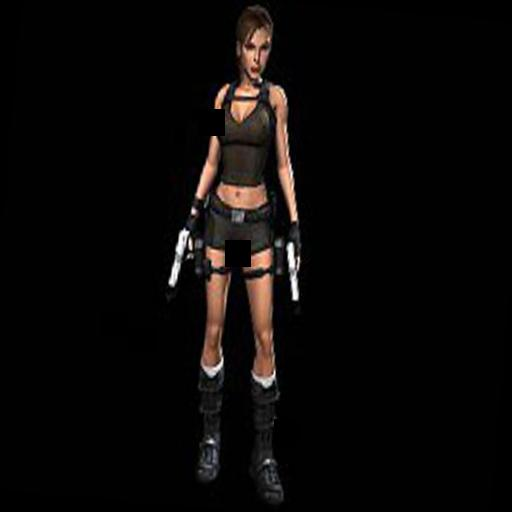Handgun: (162, 222, 196, 290), (278, 232, 309, 306)
